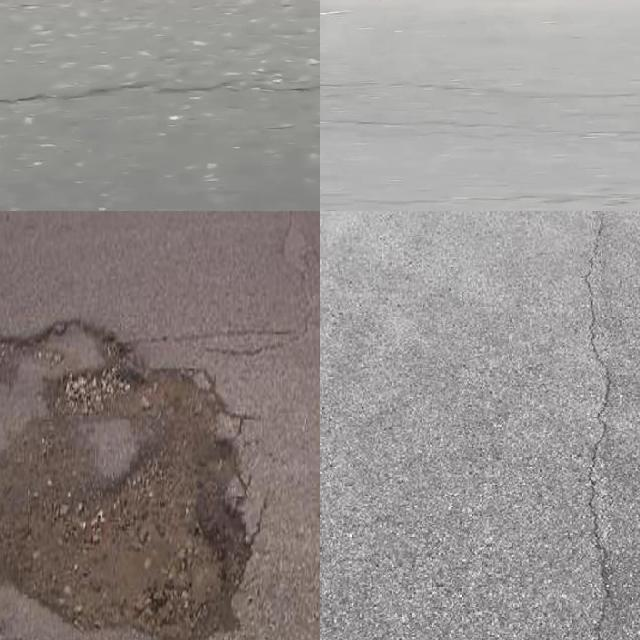Lubang: (0, 370, 237, 640)
Memanjang: (570, 211, 624, 640)
